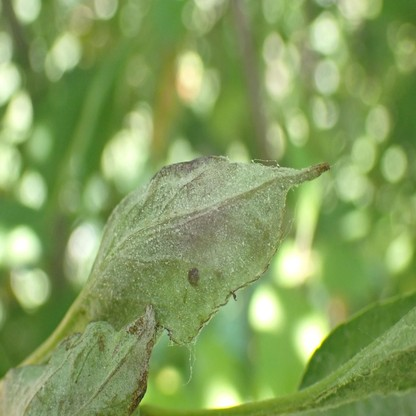powder: (81, 155, 330, 344), (0, 305, 158, 415)
